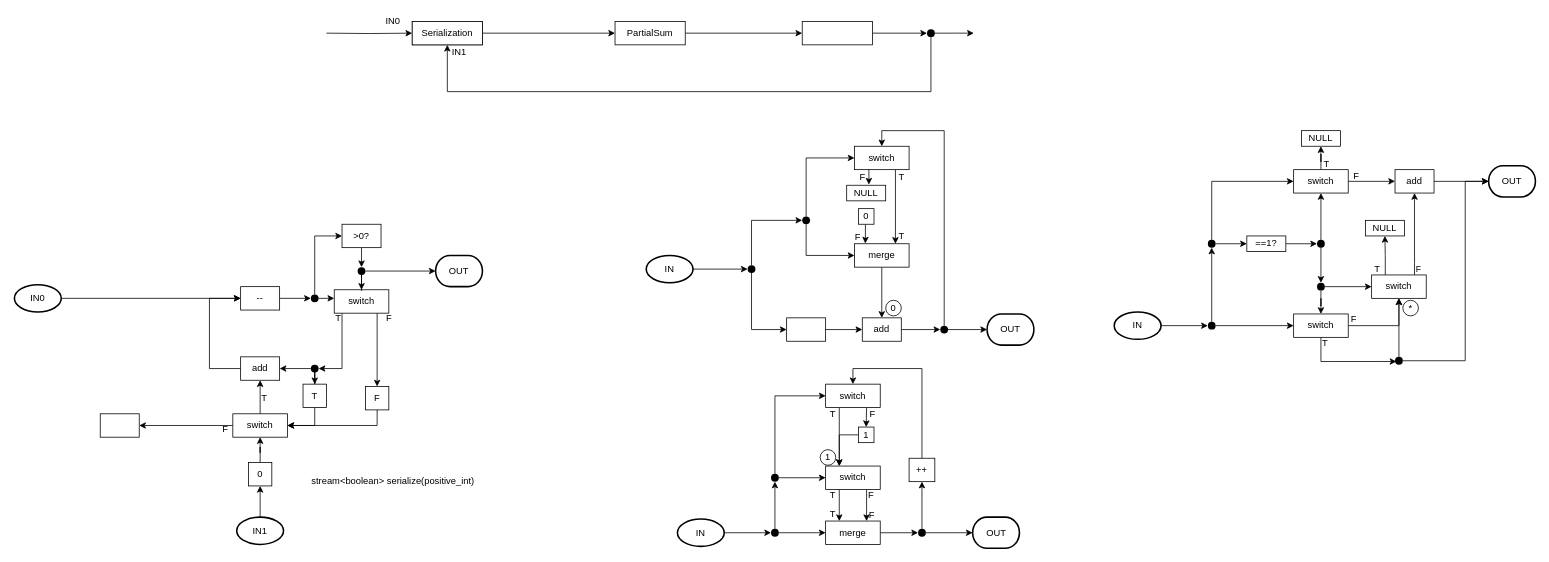
Some shapes in this 1549 by 562 pixel diagram are drawn without their labels. Here are the shapes that lost their labels. From the top down, the box of each, then its label:
(801, 21, 872, 45): Square
(786, 317, 826, 341): seq
(99, 413, 139, 437): NEXT
